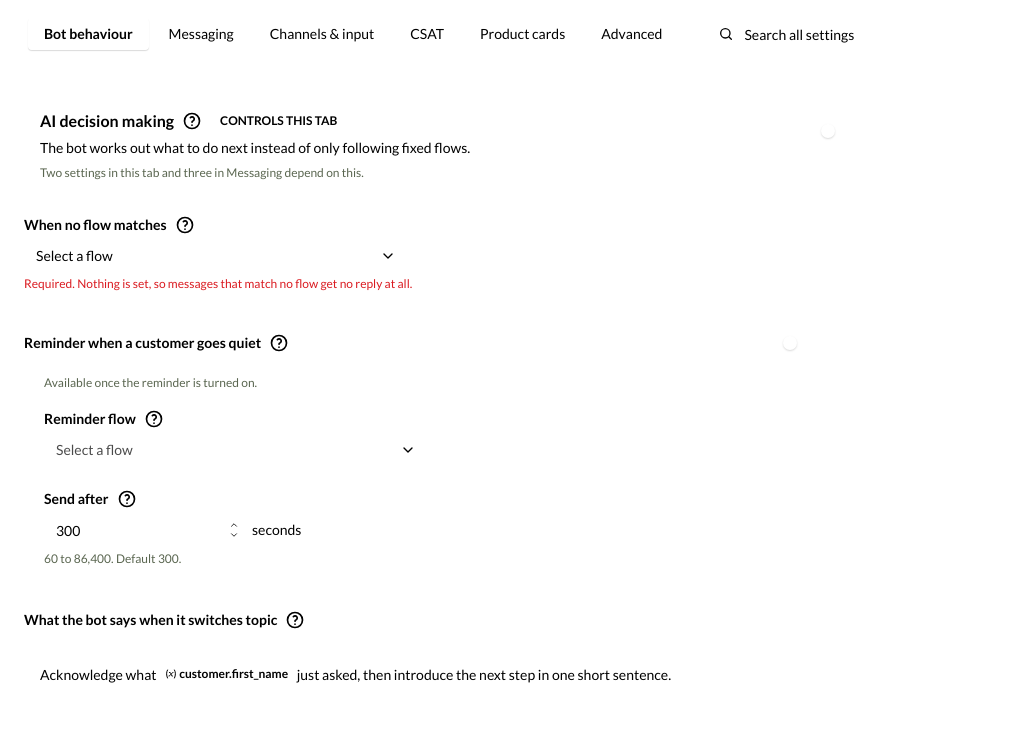
Test case: BotSettings tabs › keeps the reminder rows off until the reminder is turned on
expect the dropdown named "Reminder flow" is disabled: met, box left=44, top=440, right=428, bottom=460
expect the number field named "Send after" is disabled: met, box left=44, top=520, right=224, bottom=540
Click the switch named "Reminder when a customer goes quiet": coordinates (802, 343) left=781, top=333, right=823, bottom=353
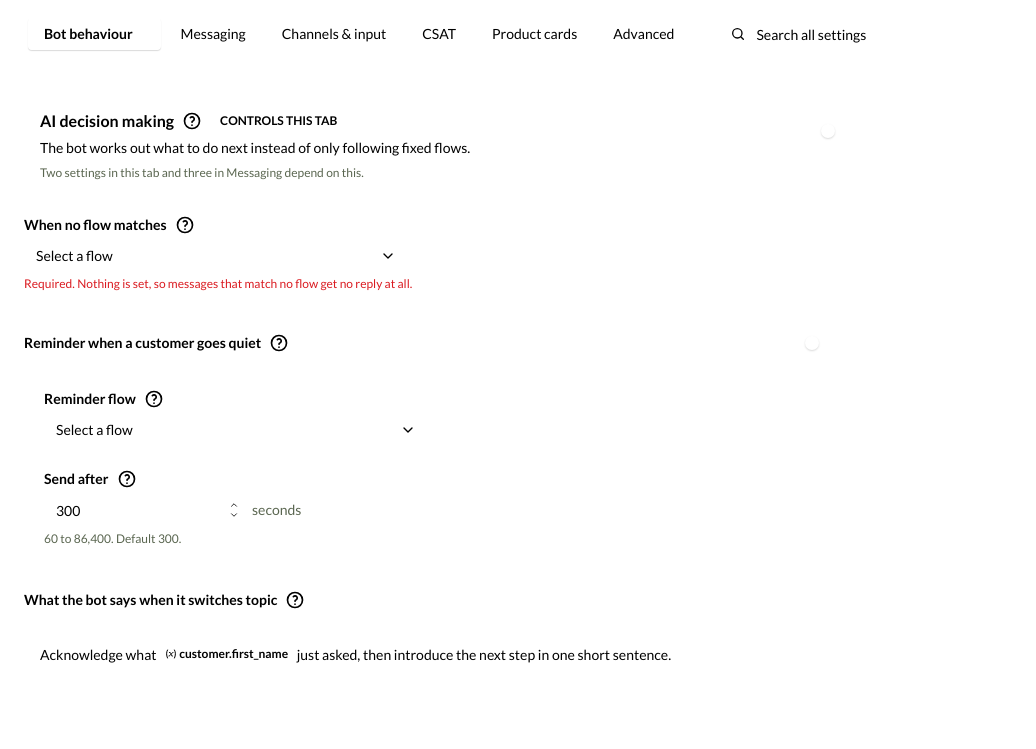
expect the dropdown named "Reminder flow" is enabled: met, box left=44, top=420, right=428, bottom=440
expect the number field named "Send after" is enabled: met, box left=44, top=500, right=224, bottom=520
expect the text "Available once the reminder is turned on." is gone: met
